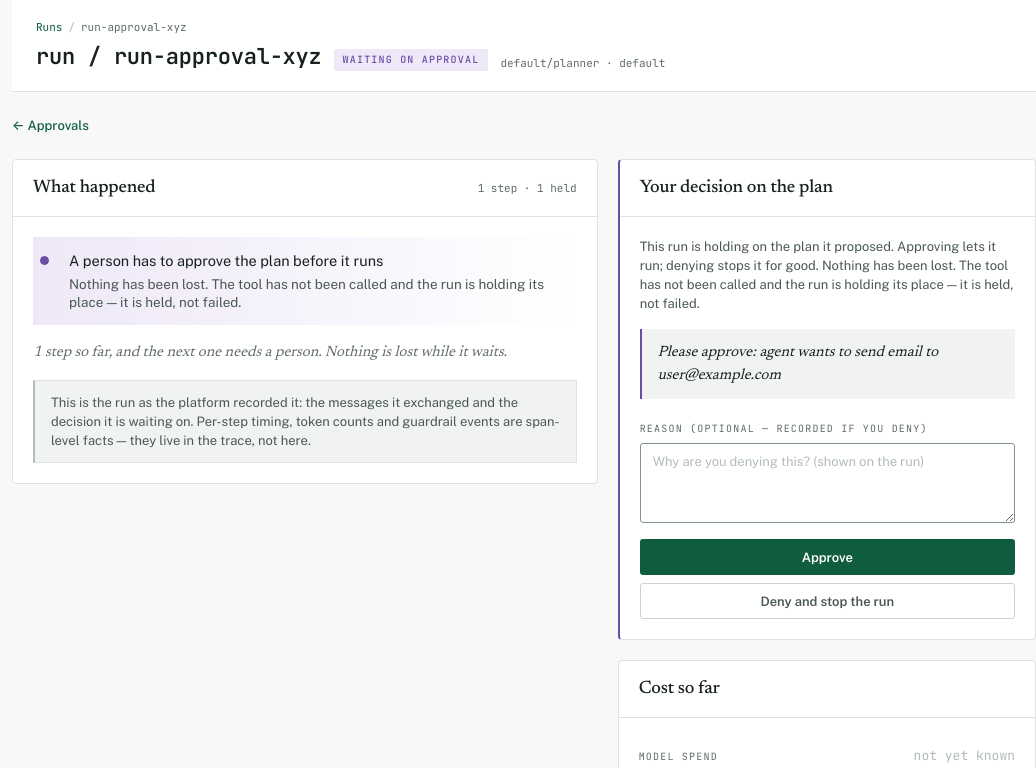
Test: RunDetailPage (V5, M112) › plan_approval run — requires_action=approval › disables both buttons while the decision is in flight
Click the button with test id "run-approve-btn": (827, 557) 640,539 -> 1015,575
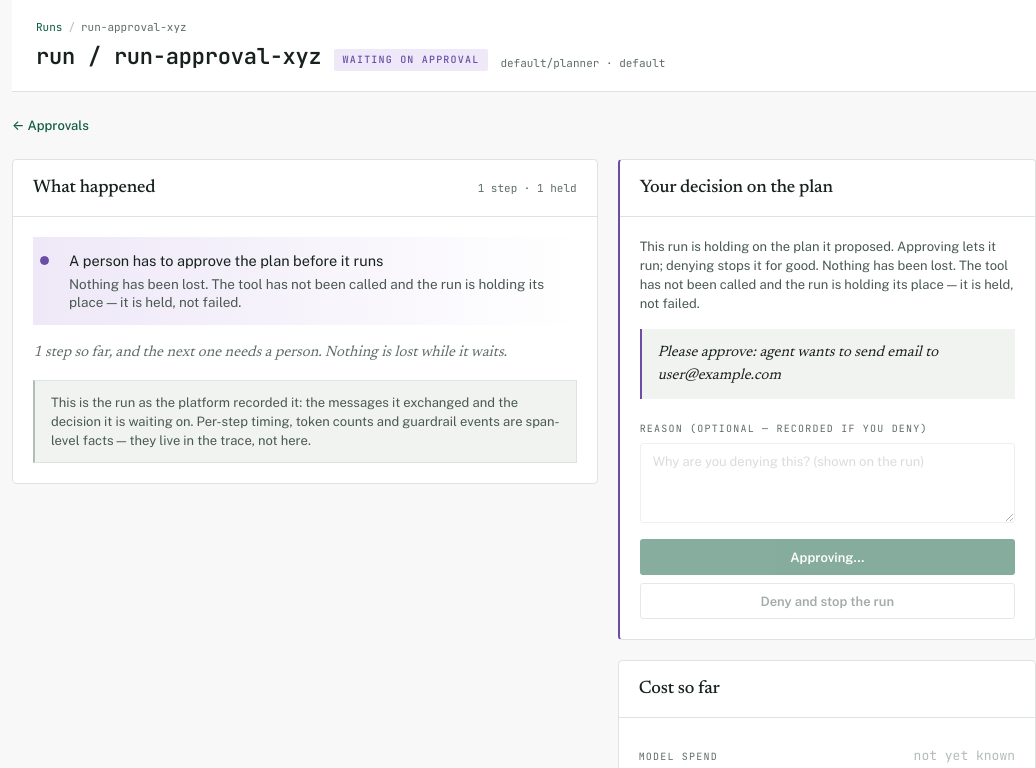
Check: the button with test id "run-approve-btn" is disabled, box 640,539 -> 1015,575
Check: the button with test id "run-deny-btn" is disabled, box 640,583 -> 1015,619
